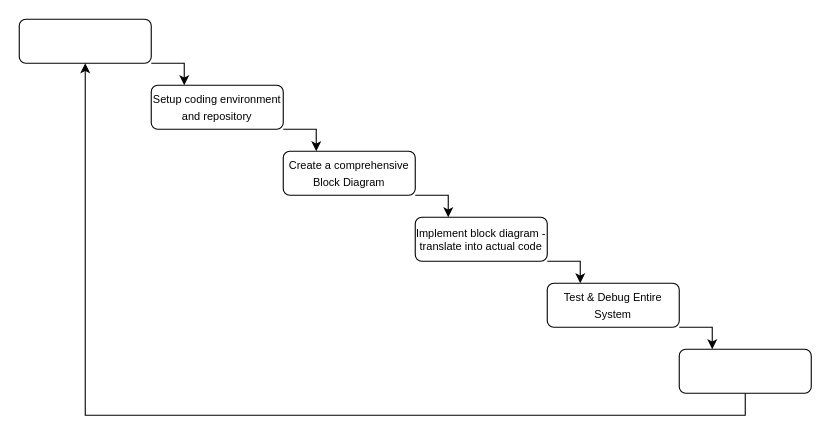
This 831x443 diagram has some shape labels left out. Each missing label, with the centre of its shape:
Choose a language for the project: pixel 84 40
Continuously upgrade and maintain the database: pixel 744 370
